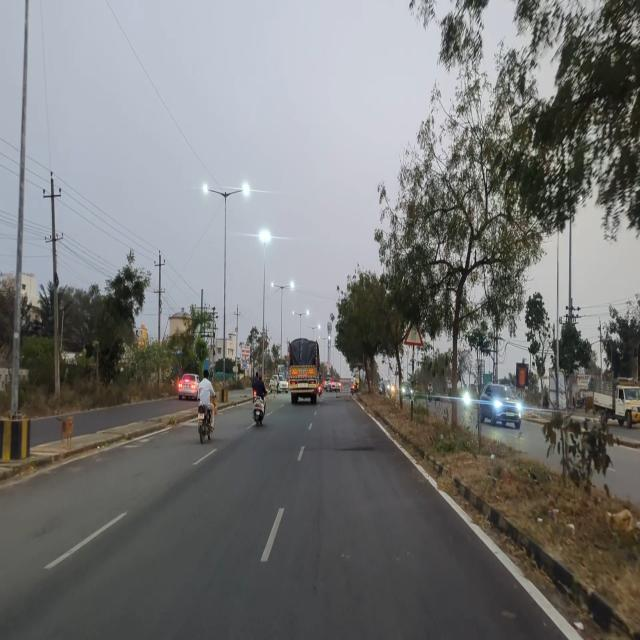bien_cam: (403, 320, 423, 347)
